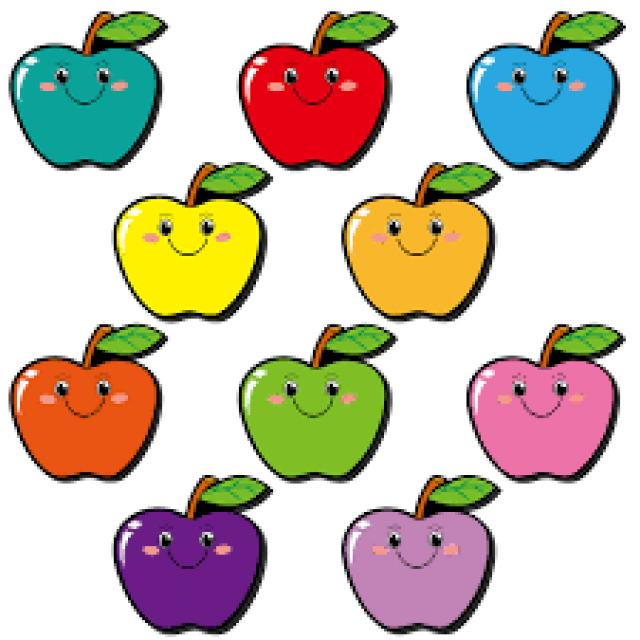Apple: (240, 27, 399, 173), (235, 347, 392, 486)
